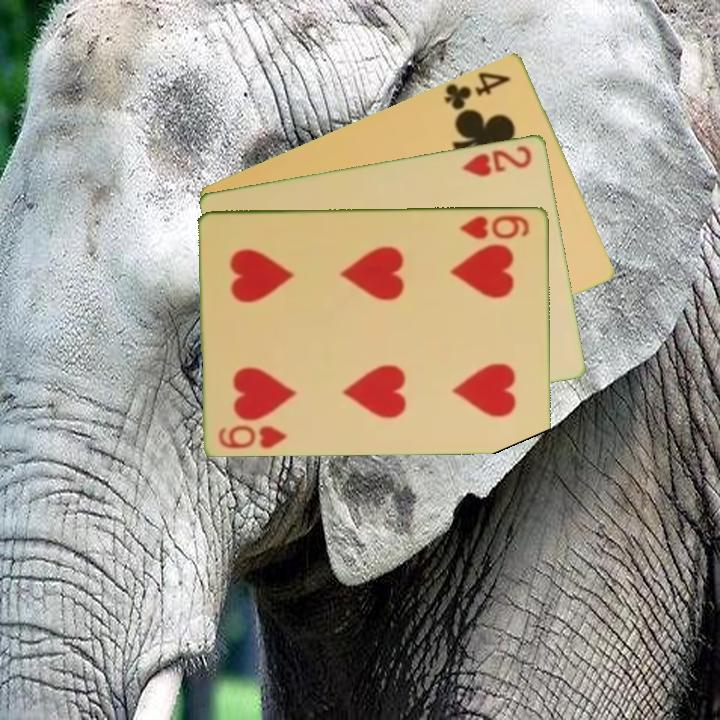2h: (459, 141, 535, 180)
4c: (440, 67, 514, 113)
6h: (457, 211, 533, 241), (216, 421, 291, 451)
